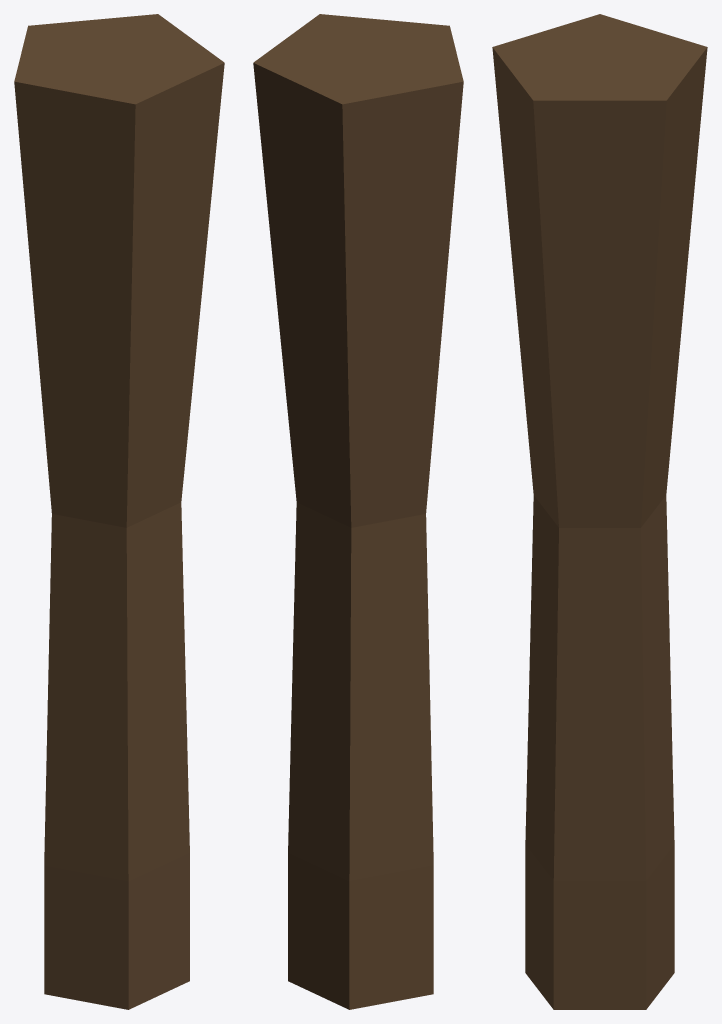
Rendered from animal_megaspider_leg.obj.
3 renders of one model, left to right at view 1: azimuth 30°, elevation 25°; view 2: azimuth 150°, elevation 25°; view 3: azimuth 270°, elevation 25°, orthographic.
Visible parts, largest first — view 1: animal_megaspider_leg; view 2: animal_megaspider_leg; view 3: animal_megaspider_leg.
Boxes of the visible parts, bbox=[...] form: animal_megaspider_leg: bbox=[14, 14, 224, 1009]; animal_megaspider_leg: bbox=[253, 14, 463, 1009]; animal_megaspider_leg: bbox=[492, 14, 707, 1009].
Size of the model in its own units: 0.0621 by 0.308 by 0.0652.
